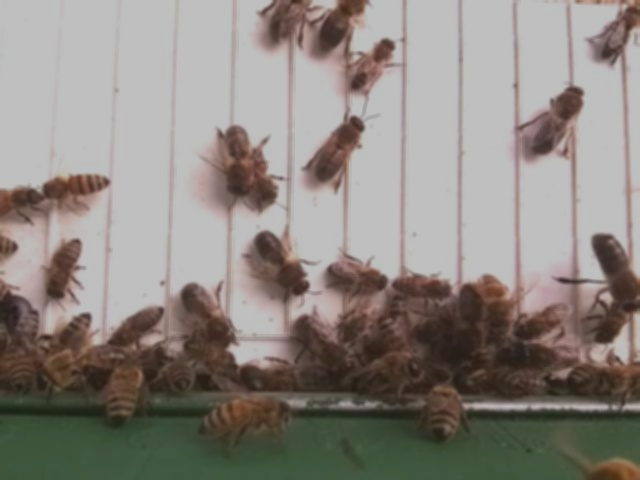Drone: (528, 81, 588, 157), (591, 228, 640, 314), (298, 310, 357, 377), (256, 227, 312, 295), (314, 113, 367, 184), (180, 280, 234, 348), (451, 278, 486, 364), (318, 0, 369, 51), (223, 122, 252, 200)
Worker: (199, 400, 293, 436), (108, 303, 166, 348), (352, 33, 396, 92), (599, 2, 640, 59), (514, 299, 570, 340), (40, 170, 114, 200), (182, 336, 242, 373), (50, 235, 84, 300), (326, 257, 389, 292), (479, 271, 515, 329), (48, 311, 94, 356), (394, 268, 455, 298), (375, 310, 410, 360)
